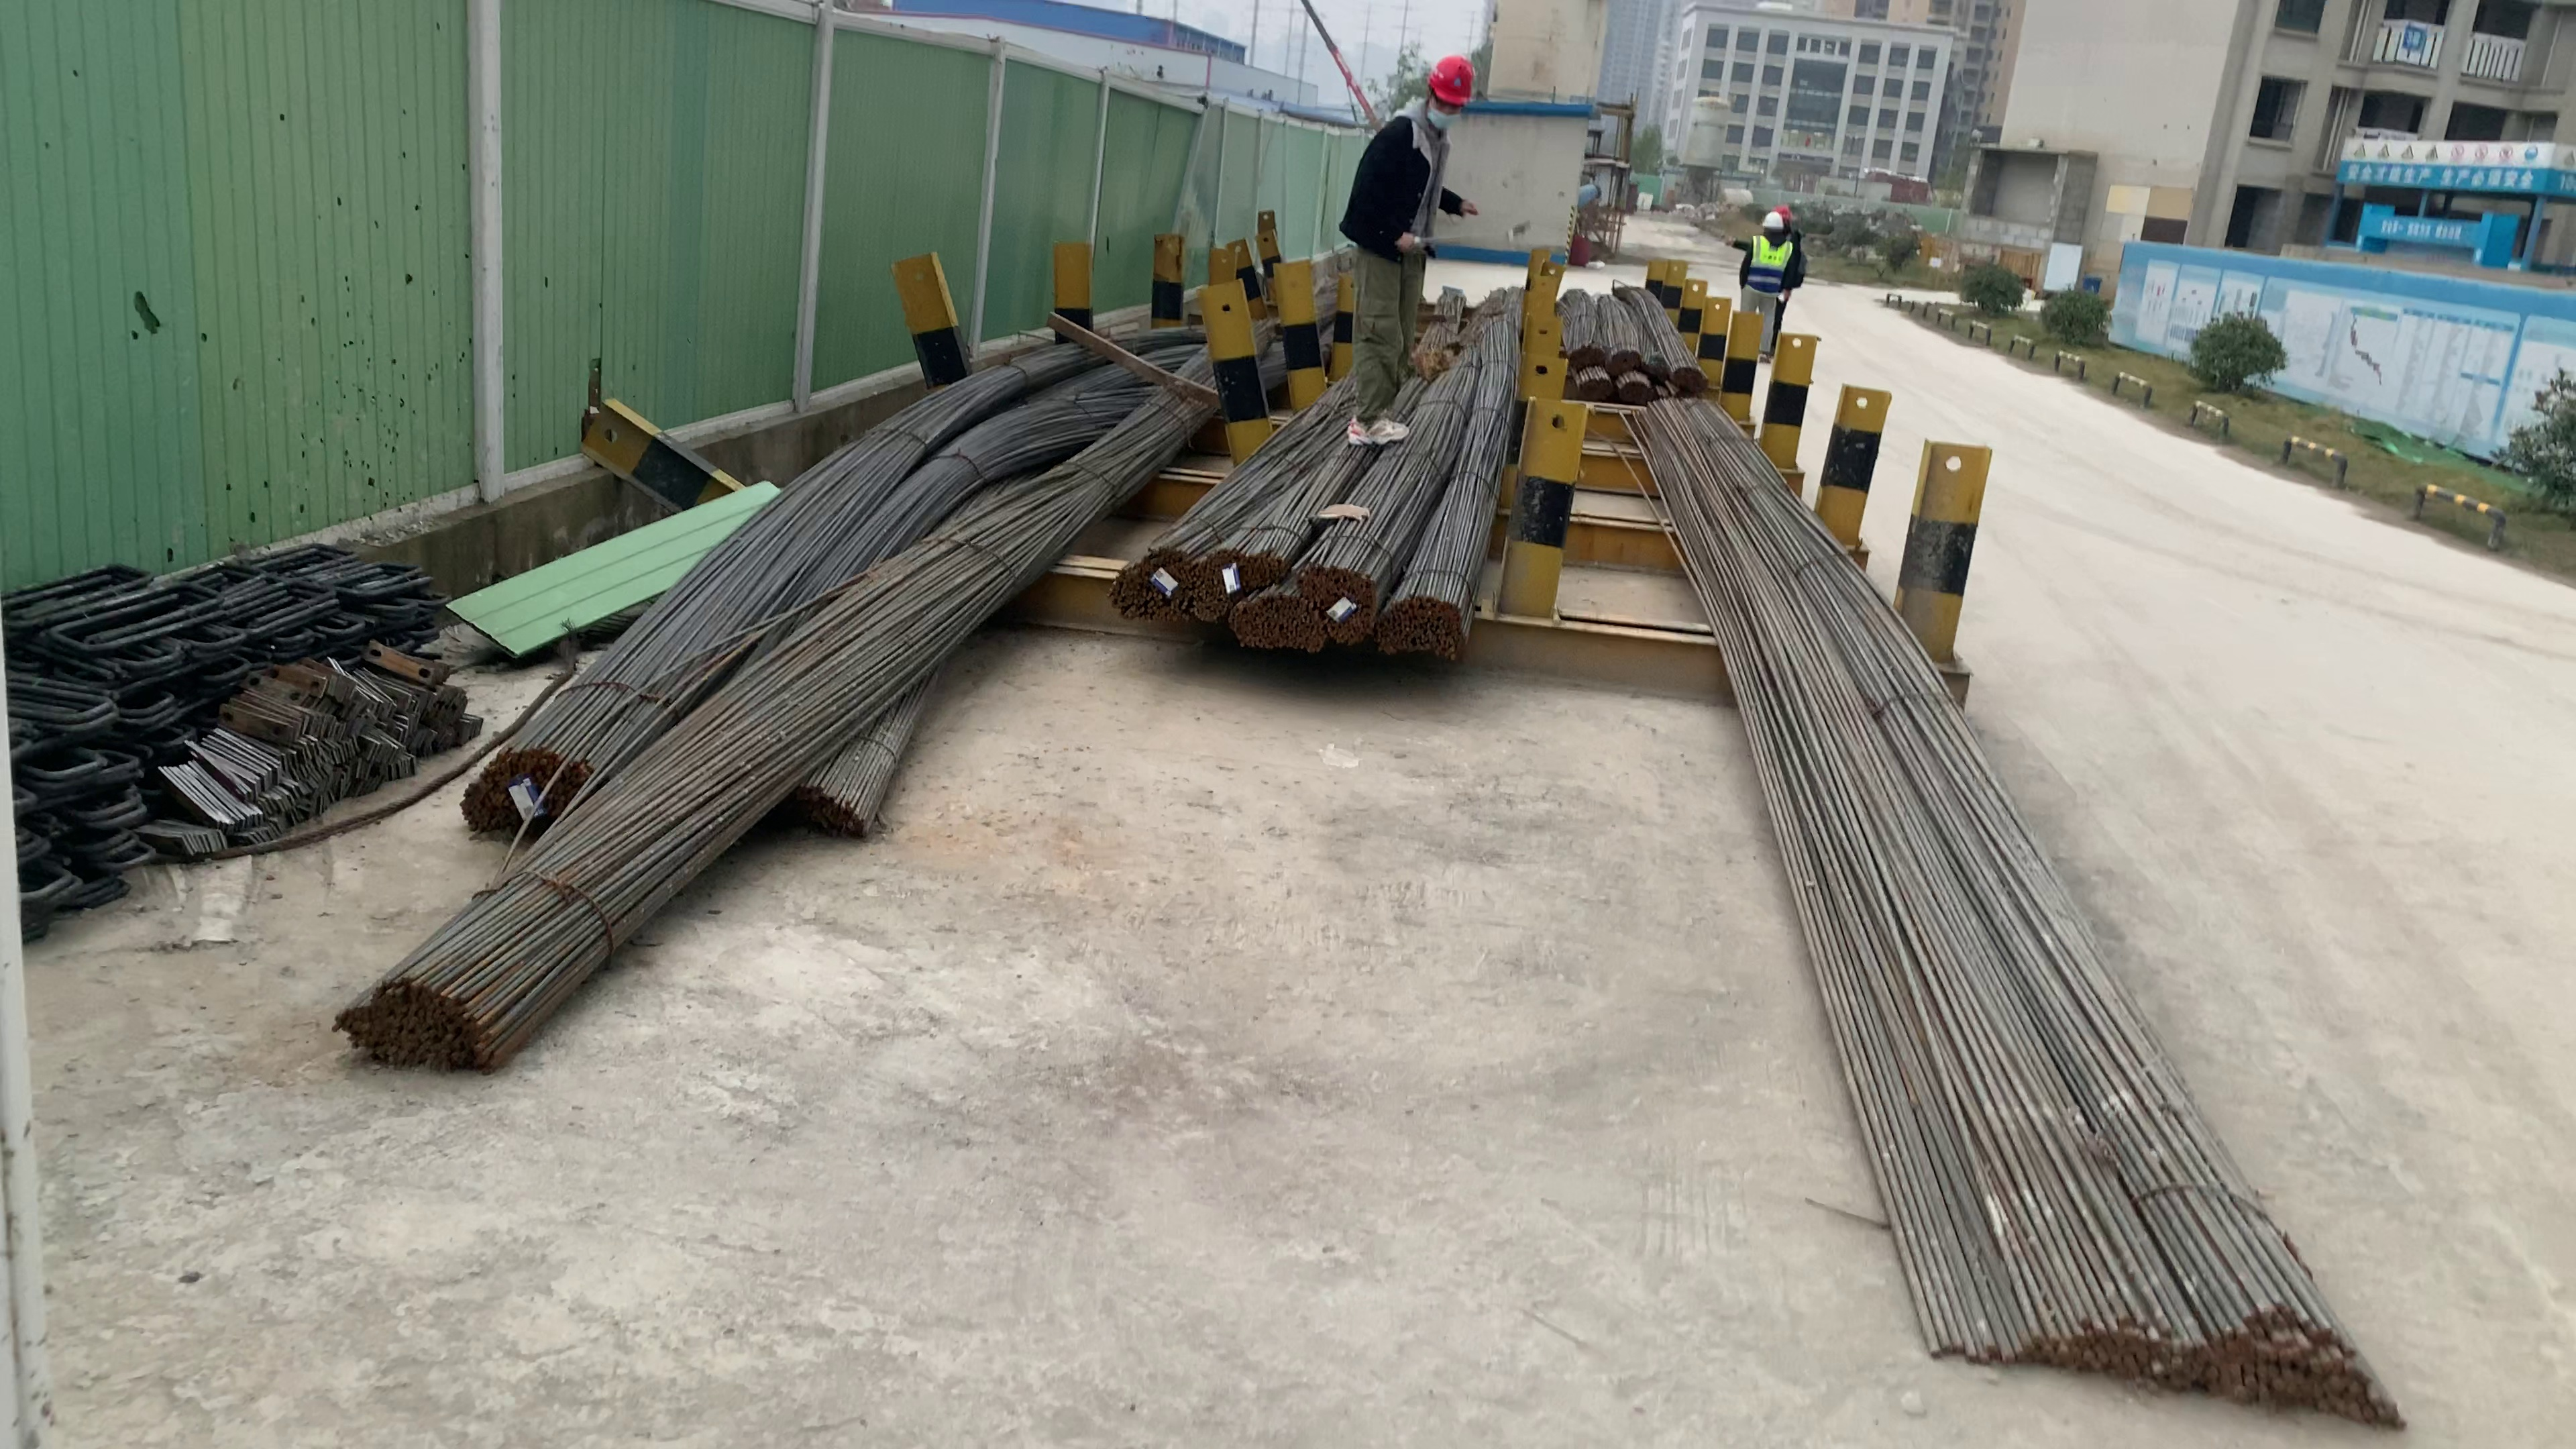rebar: (1898, 1286, 2406, 1428), (343, 970, 508, 1069), (464, 747, 584, 823), (1111, 541, 1201, 625), (1207, 548, 1283, 617), (1378, 600, 1463, 655), (1306, 563, 1366, 639), (787, 786, 872, 839), (1238, 603, 1318, 649), (1670, 361, 1704, 387), (1568, 340, 1599, 364), (1578, 375, 1615, 396), (1621, 382, 1652, 405), (1612, 349, 1640, 366)
